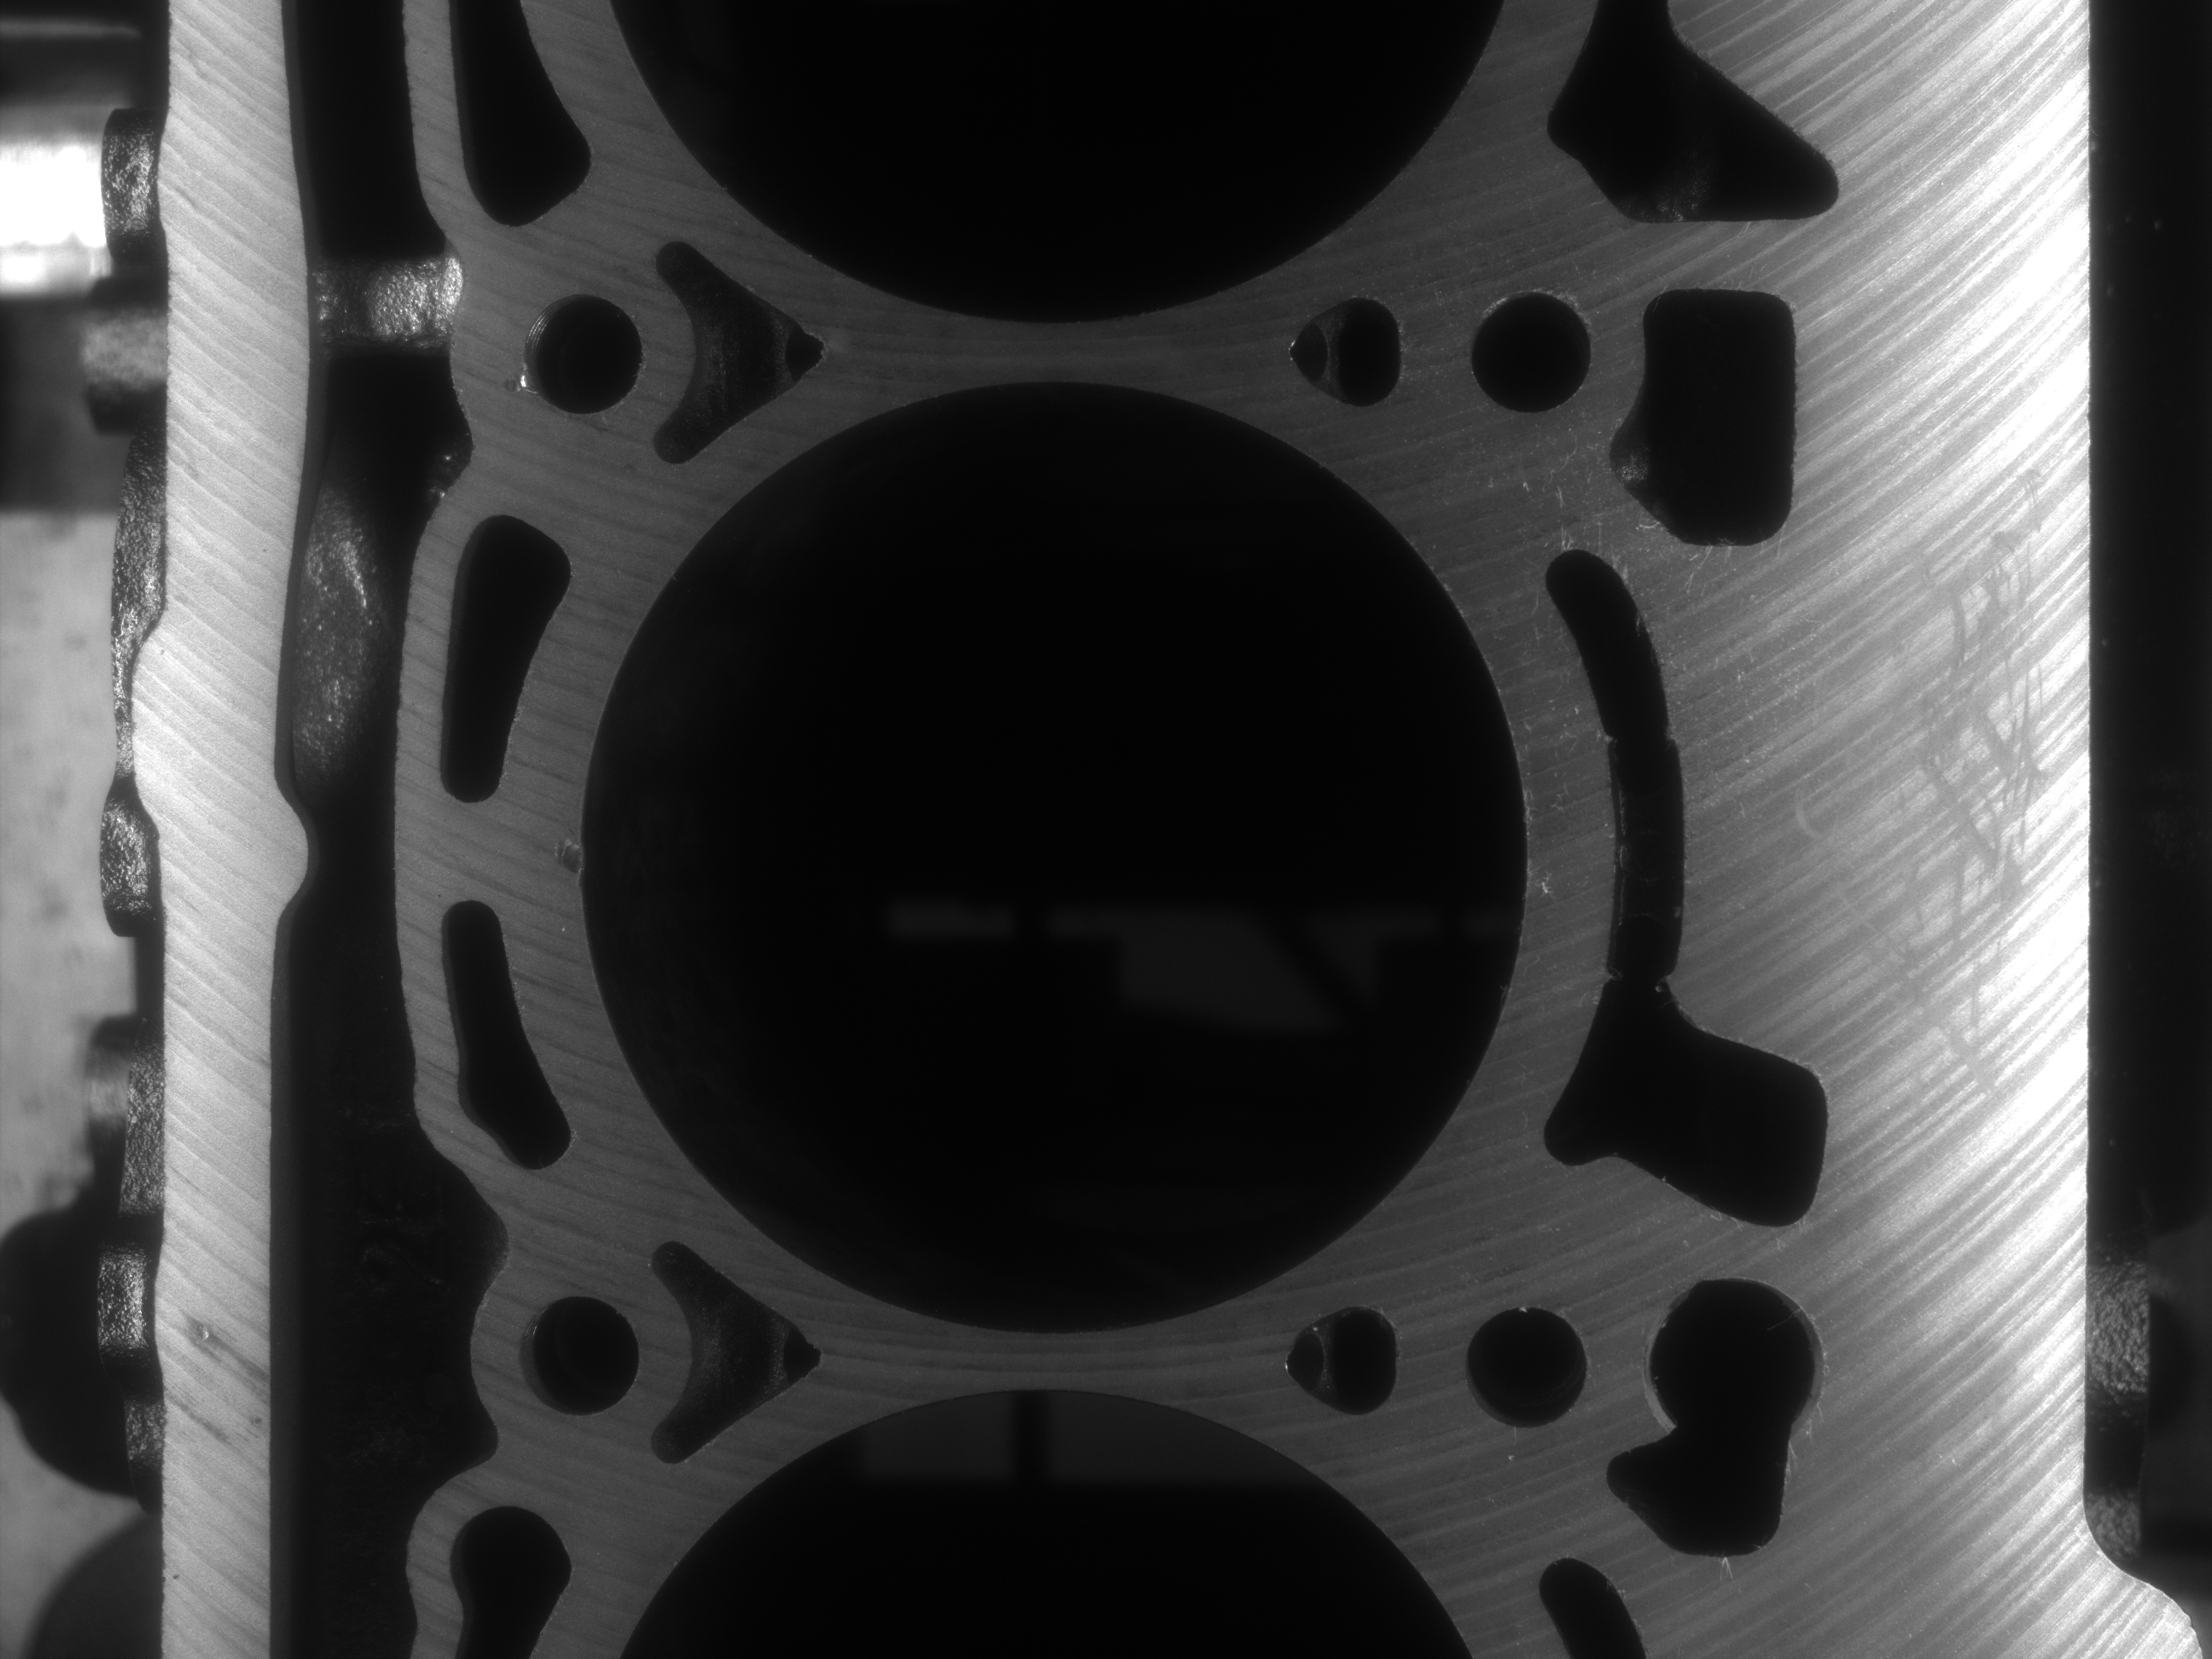dirty: (1768, 511, 2080, 1077)
shrinkage: (554, 823, 589, 882)
